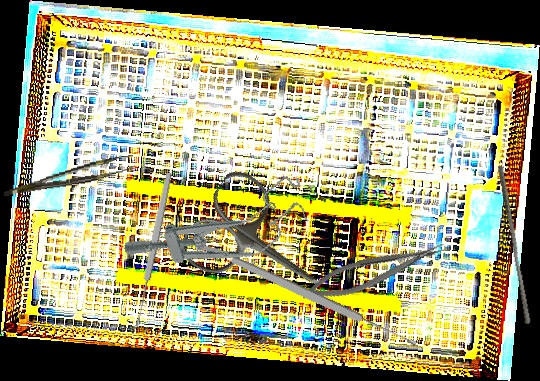Iris Scissors: (174, 163, 348, 330)
Needle Holder: (296, 236, 451, 308)
Pusher: (491, 165, 537, 325)
Speculum: (118, 171, 319, 294)
Surgical Spoon: (229, 253, 419, 351), (132, 172, 174, 327)
Tissue Forceps: (1, 154, 136, 197)
